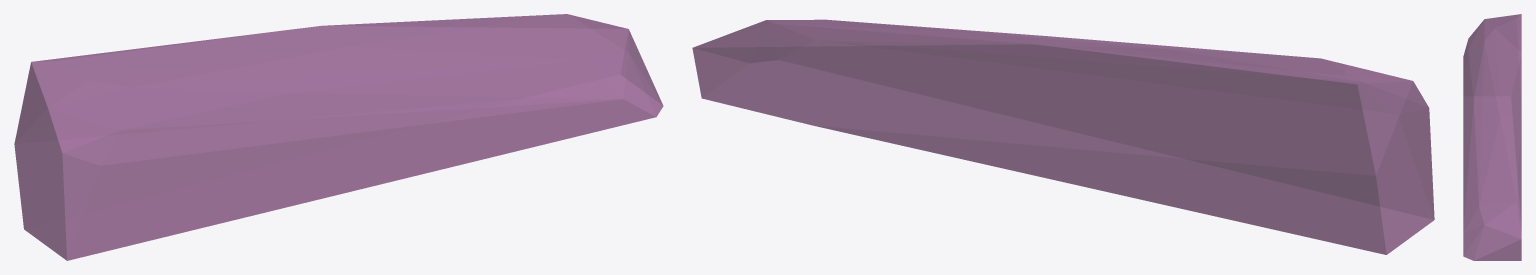
3 views of the same model, side by side, from view 1: azimuth 30°, elevation 25°; view 2: azimuth 150°, elevation 25°; view 3: azimuth 270°, elevation 25° (orthographic). The views are drawn at different scales.
Parts seen in each view (by area): view 1: Shape_IndexedFaceSet.024_Shape_IndexedFaceSet.4443; view 2: Shape_IndexedFaceSet.024_Shape_IndexedFaceSet.4443; view 3: Shape_IndexedFaceSet.024_Shape_IndexedFaceSet.4443.
Boxes of the visible parts, x1=… form: Shape_IndexedFaceSet.024_Shape_IndexedFaceSet.4443: x1=14, y1=14, x2=663, y2=260; Shape_IndexedFaceSet.024_Shape_IndexedFaceSet.4443: x1=692, y1=19, x2=1434, y2=254; Shape_IndexedFaceSet.024_Shape_IndexedFaceSet.4443: x1=1463, y1=14, x2=1521, y2=260.
Size of the model in its own units: 0.0237 by 0.00577 by 0.00353.
